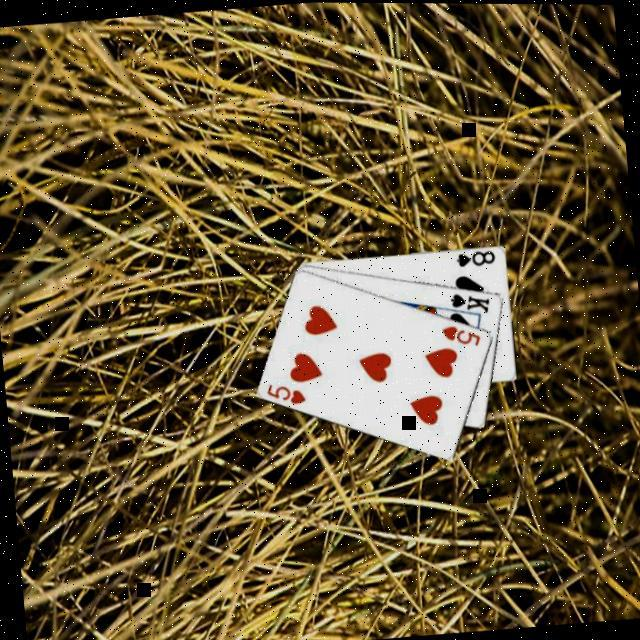5H: (437, 318, 483, 350), (262, 376, 308, 408)
8S: (452, 246, 497, 268)
KS: (445, 286, 492, 316)
